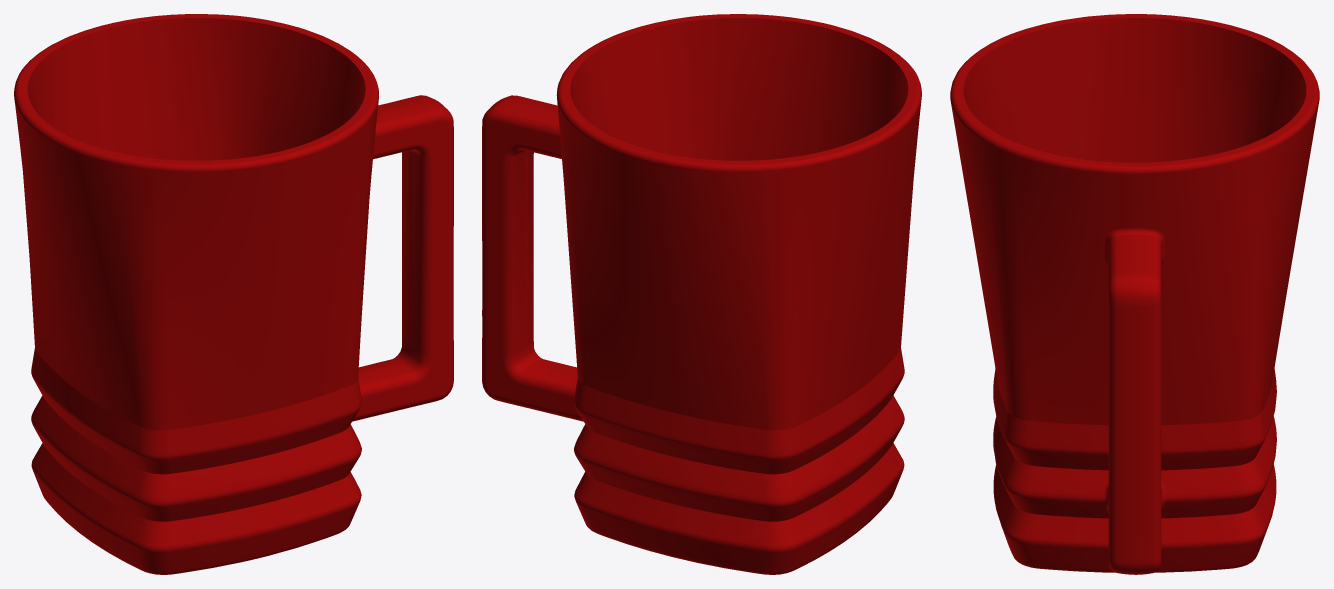
Rendered from CM-MUG044.glb.
3 views of the same model, side by side, from view 1: azimuth 30°, elevation 25°; view 2: azimuth 150°, elevation 25°; view 3: azimuth 270°, elevation 25° (orthographic).
Size of the model in its own units: 0.0905 by 0.09 by 0.0701.
